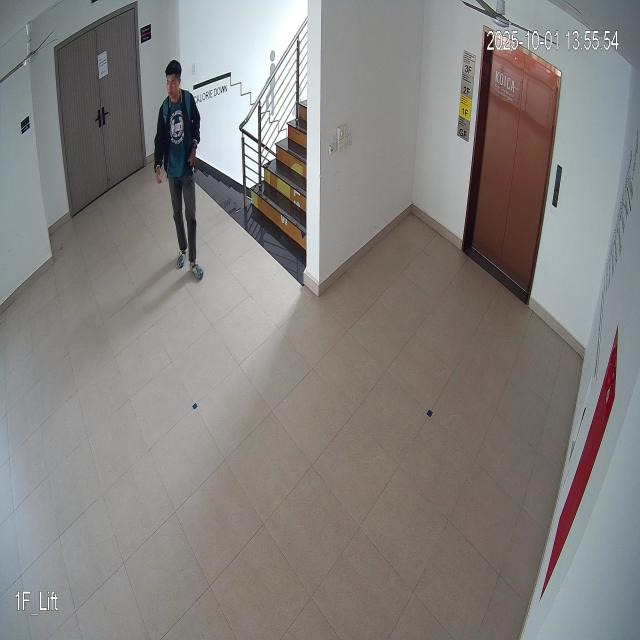face: (163, 58, 183, 103)
